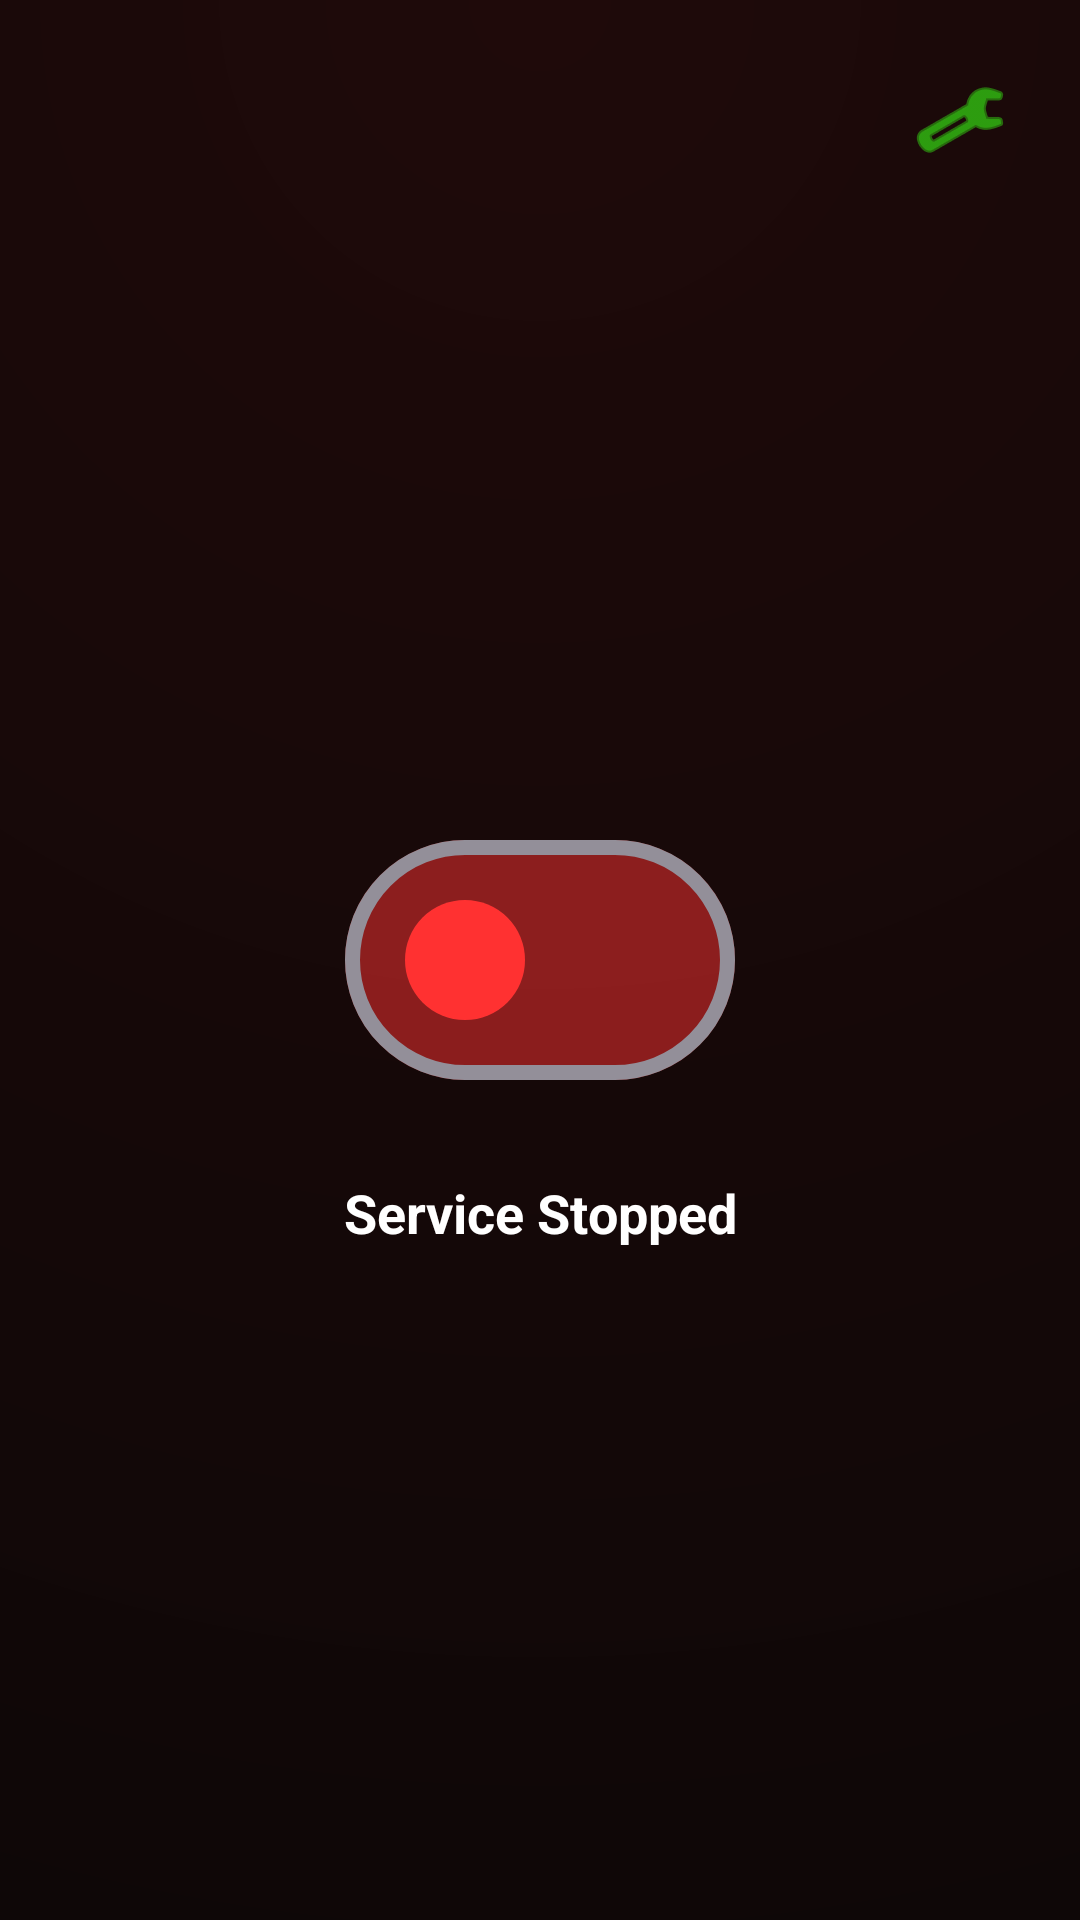

Icon bounding boxes for this 1080×1920 phone screenshot, format (x1, y1, x2, y2):
Settings: (917, 87, 1003, 153)
